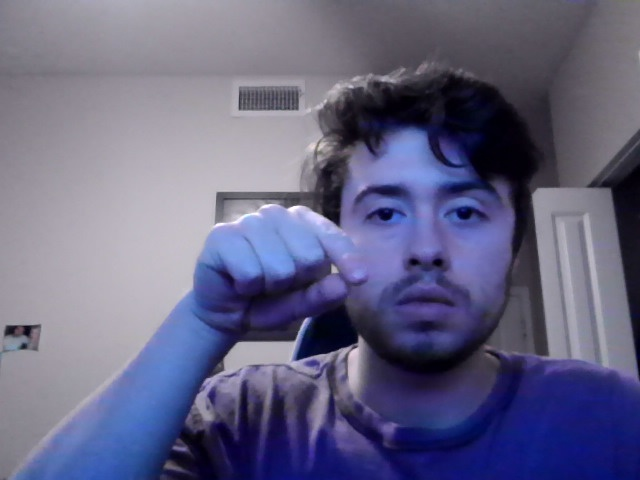q: (184, 202, 370, 345)
